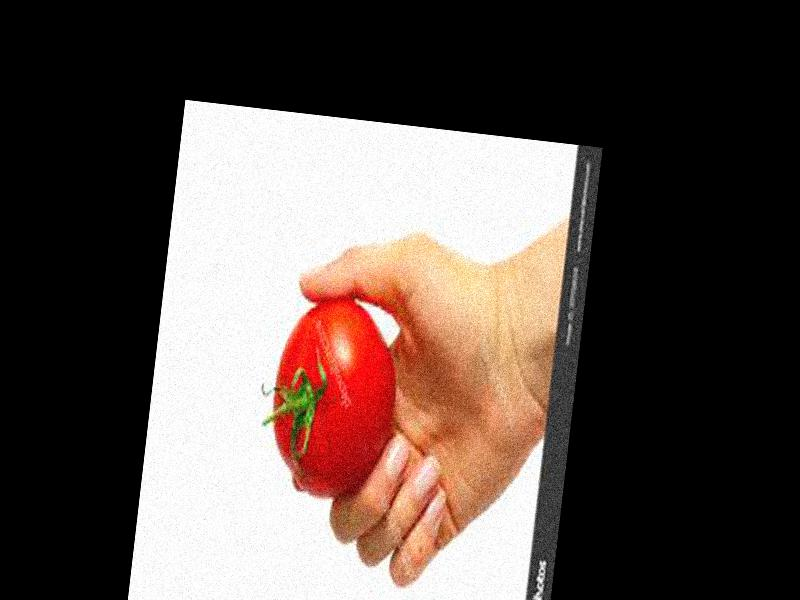Tomato: (262, 293, 406, 500)
